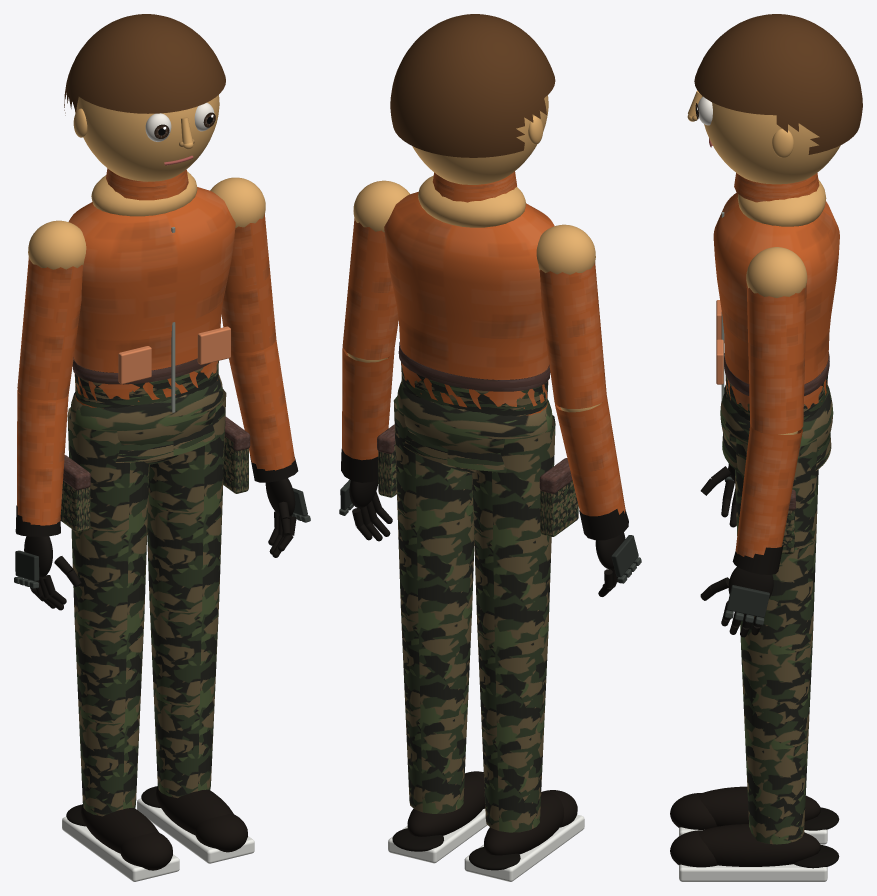
File: 00-baskets.glb
3 views of the same model, side by side, from view 1: azimuth 30°, elevation 25°; view 2: azimuth 150°, elevation 25°; view 3: azimuth 270°, elevation 25° (orthographic). The views are drawn at different scales.
Size of the model in its own units: 0.6344 by 1.76 by 0.3705.
Materials: 22 (4 with a texture image).
